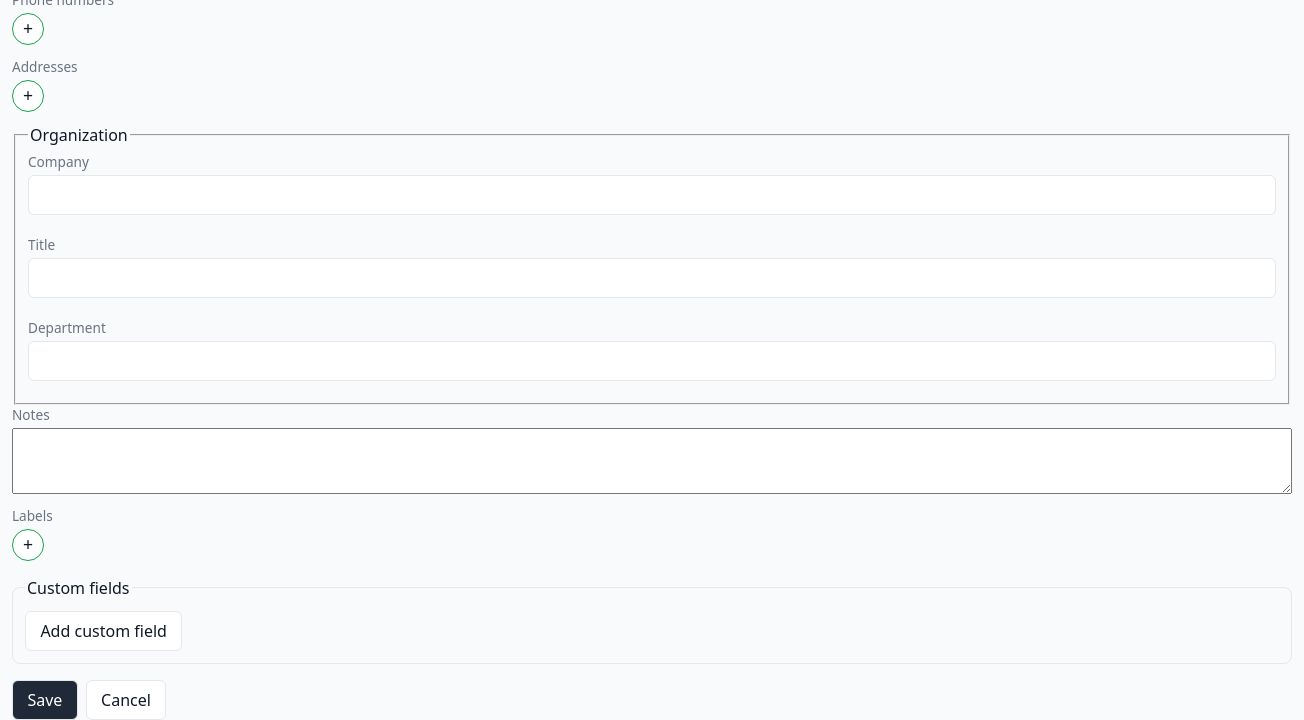
PersonForm › requires first and last name
(page scrolled)
Click the button "Save".
click(45, 700)  # box x1=12 y1=680 x2=78 y2=719
(page scrolled)
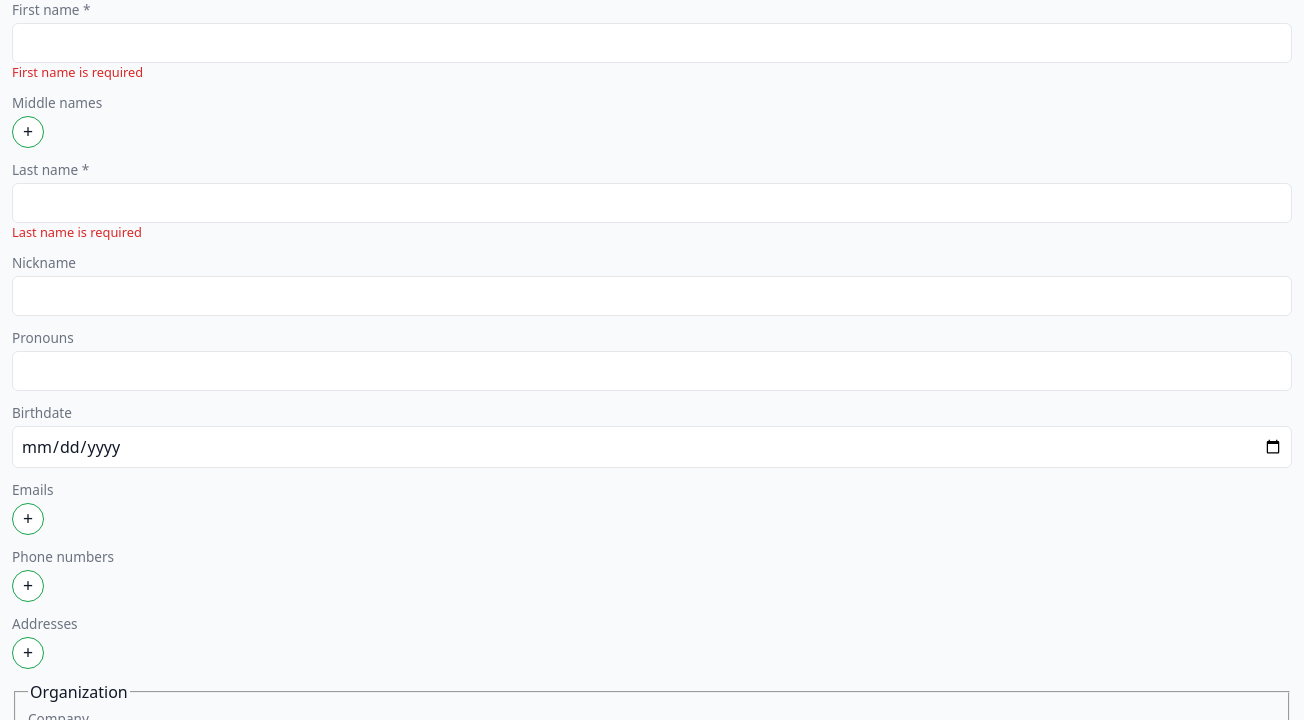
Result: the text "First name is required" is shown at x1=12 y1=63 x2=143 y2=81
Result: the text "Last name is required" is shown at x1=12 y1=223 x2=142 y2=241
